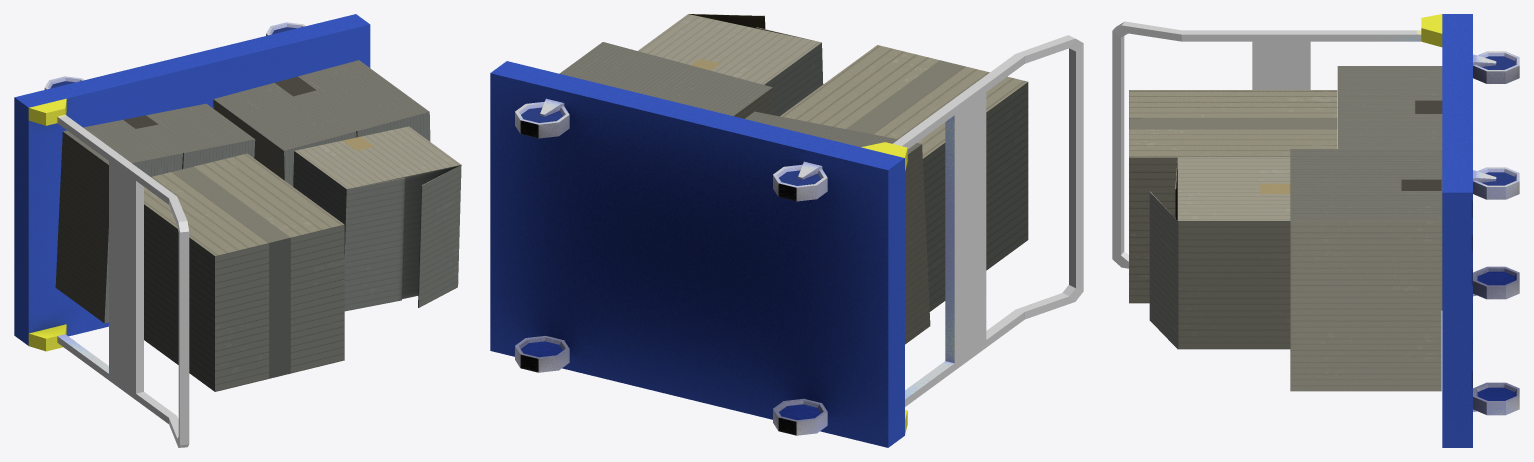
File: TrolleyBox1.obj
The picture shows the model from 3 angles, left to right: view 1: azimuth 30°, elevation 25°; view 2: azimuth 150°, elevation 25°; view 3: azimuth 270°, elevation 25°; orthographic projection. The views are drawn at different scales.
Parts seen in each view (by area): view 1: Cart_Cube.005, sealed.001_sealedTAPE_Cube.000, open_Cube.002, close, close.001; view 2: Cart_Cube.005, sealed.001_sealedTAPE_Cube.000, open_Cube.002, close.001, close; view 3: close.001, Cart_Cube.005, open_Cube.002, sealed.001_sealedTAPE_Cube.000, close.
Part boxes in pixels (x1,y1,x2,y2): Cart_Cube.005: [14, 14, 370, 447]; sealed.001_sealedTAPE_Cube.000: [144, 153, 344, 391]; open_Cube.002: [293, 126, 461, 311]; close: [55, 103, 255, 323]; close.001: [213, 60, 430, 186]; Cart_Cube.005: [490, 35, 1083, 447]; sealed.001_sealedTAPE_Cube.000: [780, 45, 1028, 311]; open_Cube.002: [638, 14, 823, 116]; close.001: [559, 42, 772, 118]; close: [745, 111, 930, 344]; close.001: [1290, 149, 1441, 391]; Cart_Cube.005: [1112, 14, 1519, 447]; open_Cube.002: [1149, 157, 1290, 349]; sealed.001_sealedTAPE_Cube.000: [1129, 90, 1337, 303]; close: [1337, 66, 1442, 310].
Size of the model in its own units: 0.9029 by 0.6 by 0.8679.
4 materials, 4 textured.
